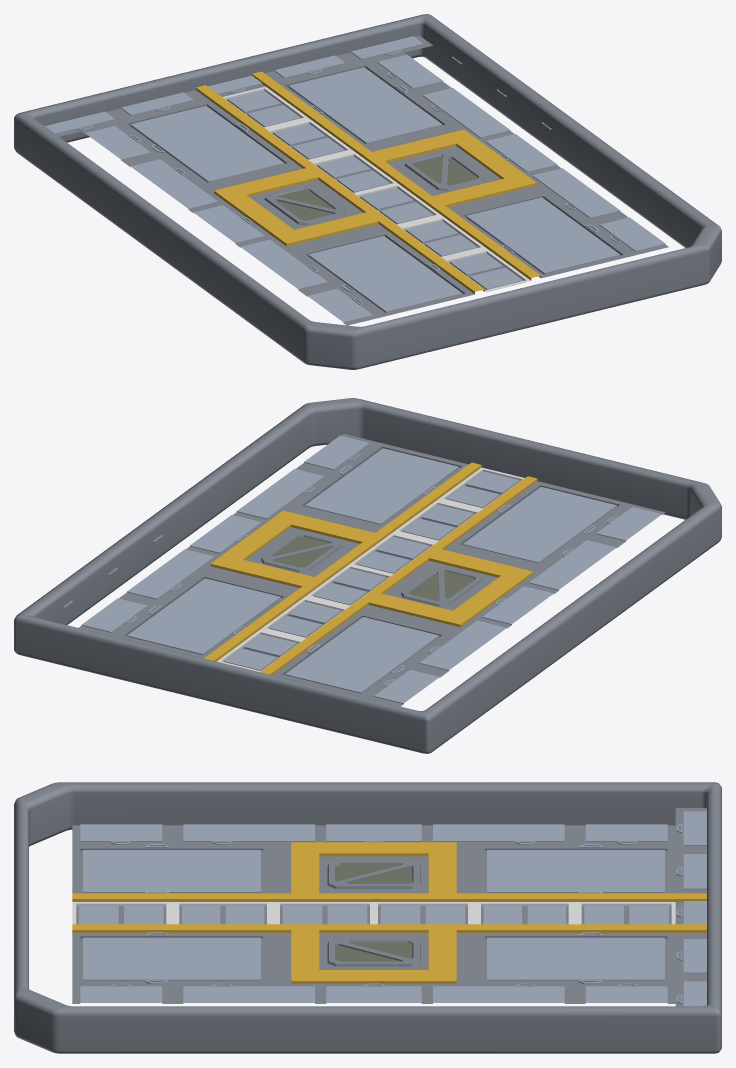
File: Level5_Ground_.fbx
3 views of the same model, one above another, from view 1: azimuth 30°, elevation 25°; view 2: azimuth 150°, elevation 25°; view 3: azimuth 270°, elevation 25° (orthographic). The views are drawn at different scales.
Visible parts, largest first — view 1: Ground, Border, pCube100 (×2), pCube87 (×2), pPlane1 (×2); view 2: Ground, Border, pCube87 (×2), pPlane1 (×2); view 3: Ground, Border, pCube100 (×2), pCube87 (×2), pPlane1 (×2).
Part boxes in pixels (bbox=[...]): Ground: bbox=[82, 53, 668, 325]; Border: bbox=[14, 14, 721, 369]; pCube100 (×2): bbox=[45, 36, 432, 136]; pCube87 (×2): bbox=[264, 151, 485, 225]; pPlane1 (×2): bbox=[276, 156, 478, 220]; Ground: bbox=[79, 434, 665, 706]; Border: bbox=[14, 398, 721, 753]; pCube87 (×2): bbox=[261, 532, 482, 606]; pPlane1 (×2): bbox=[272, 536, 474, 600]; Ground: bbox=[72, 824, 706, 1003]; Border: bbox=[14, 782, 721, 1053]; pCube100 (×2): bbox=[675, 808, 706, 1006]; pCube87 (×2): bbox=[327, 860, 420, 966]; pPlane1 (×2): bbox=[335, 864, 412, 961].
Size of the model in its own units: 410 by 36.61 by 530.
